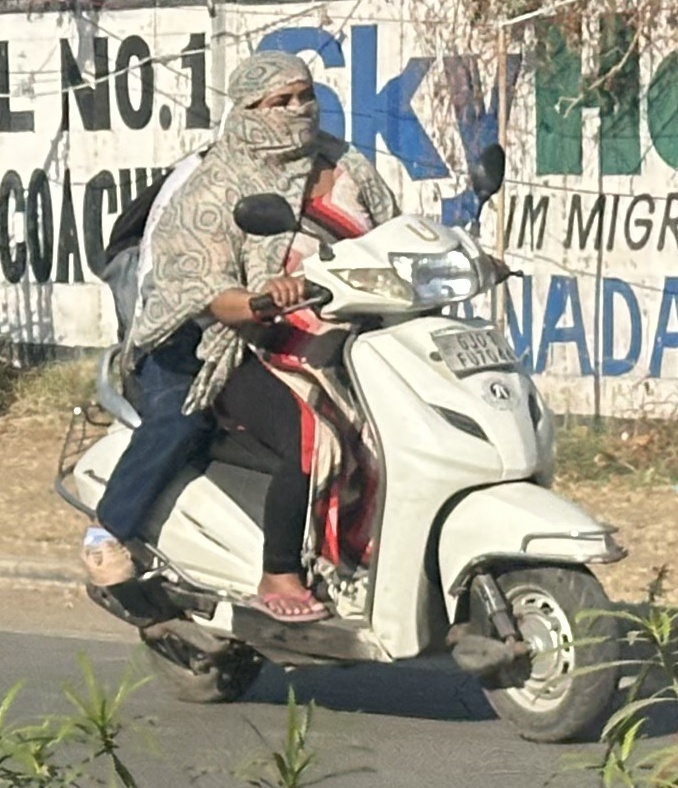BikeWithRider: (36, 32, 634, 744)
NoHelmet: (219, 44, 335, 159)
